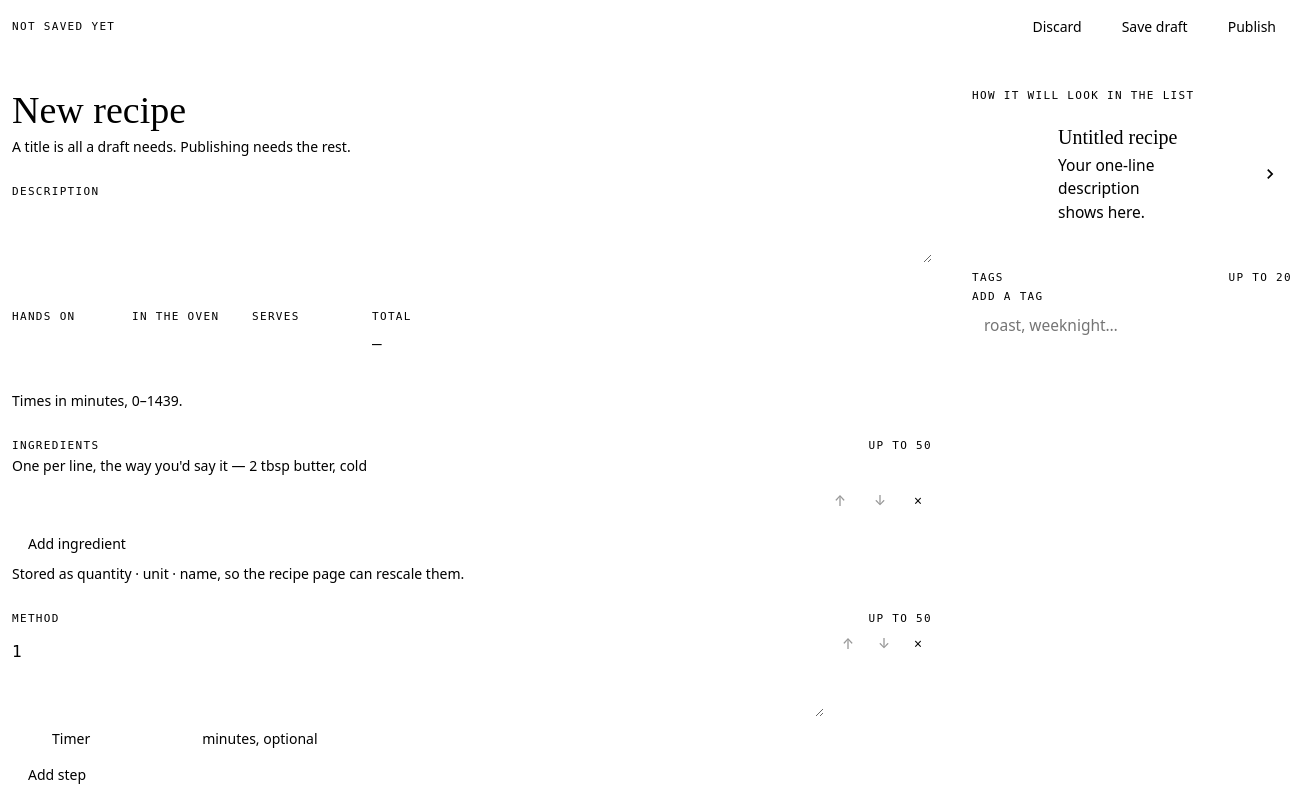
it: RecipeFormPage — new recipe › blocks Publish without a request, lists every gap, and moves focus to the list
Type "Bare" into the field named "Recipe title". click: [472, 113]
box: top-left (12, 90), bottom-right (932, 136)
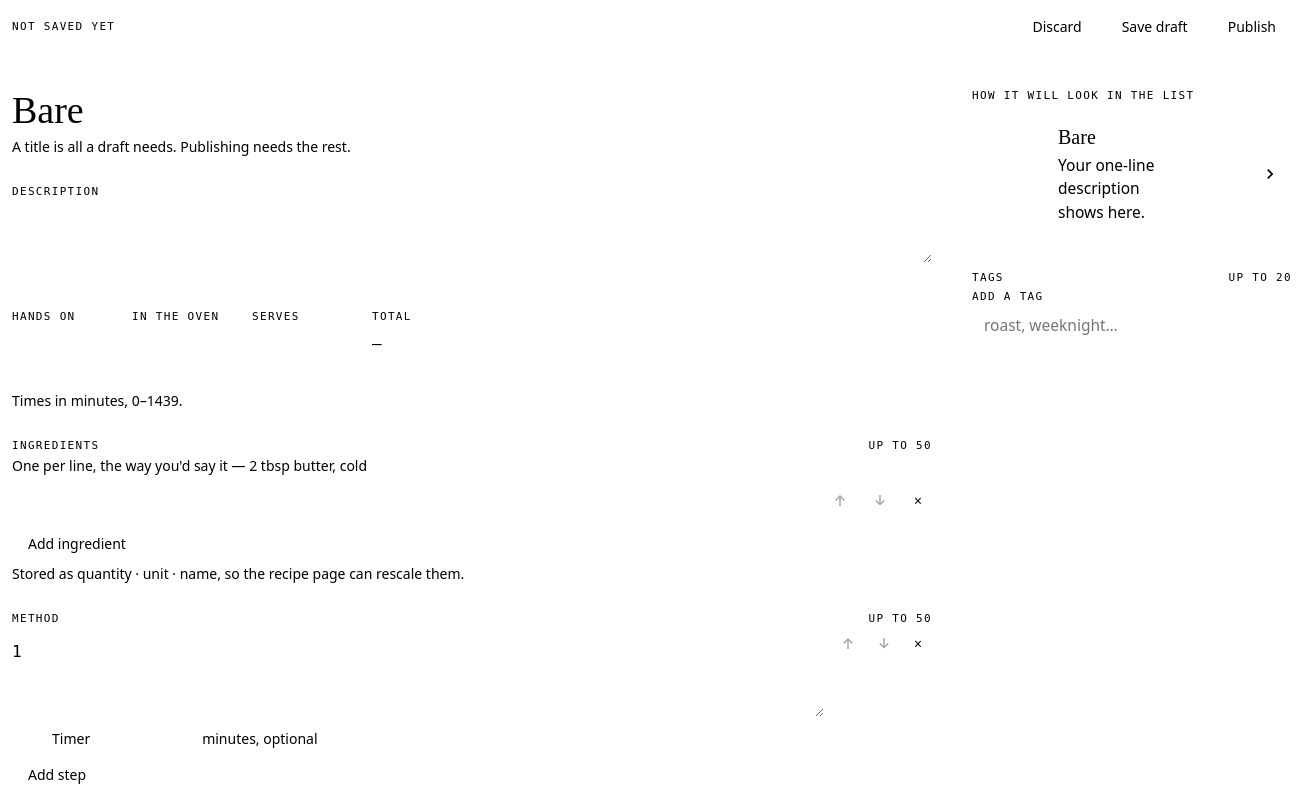
Click the button "Publish". click: [1252, 27]
box: top-left (1212, 12), bottom-right (1292, 42)
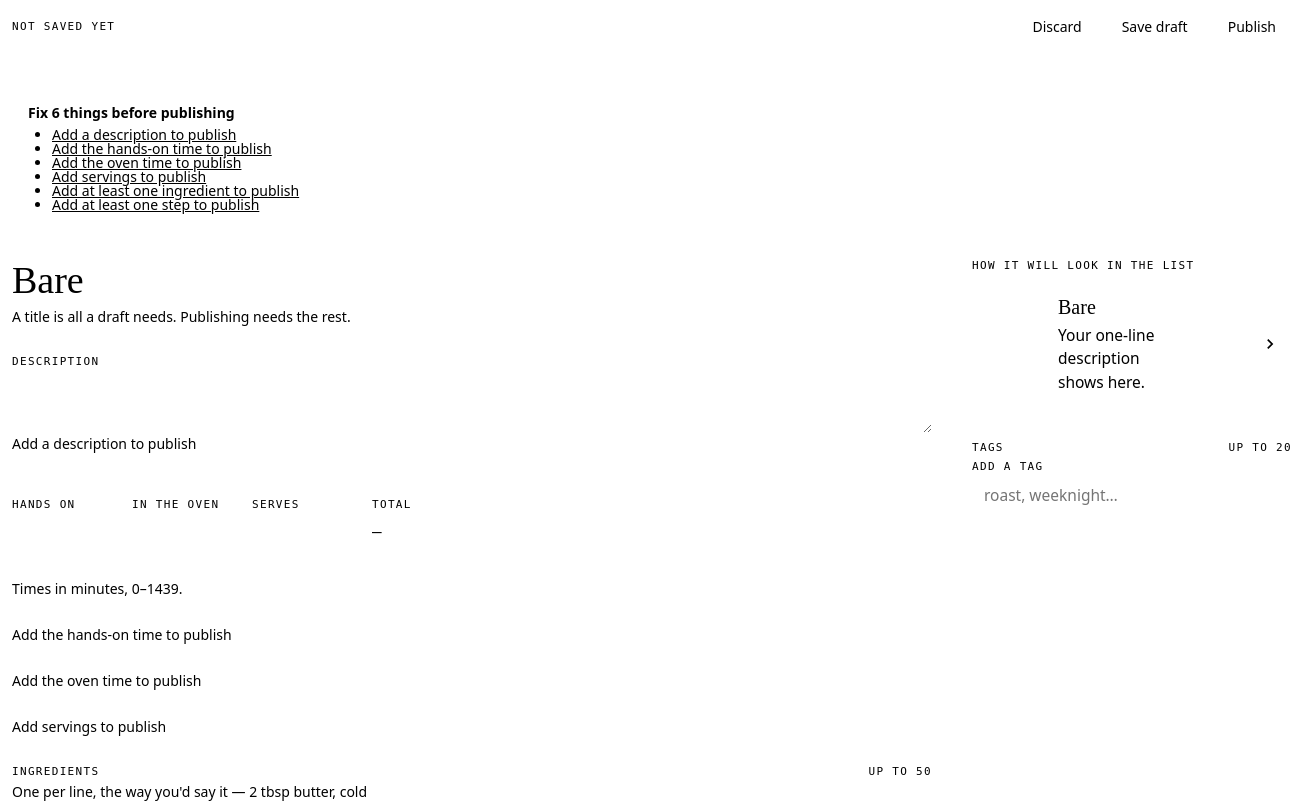
Expected: the link "Add a description to publish" is shown, top-left (52, 125), bottom-right (236, 144)
Expected: the link "Add the hands-on time to publish" is shown, top-left (52, 139), bottom-right (272, 158)
Expected: the link "Add the oven time to publish" is shown, top-left (52, 153), bottom-right (242, 172)
